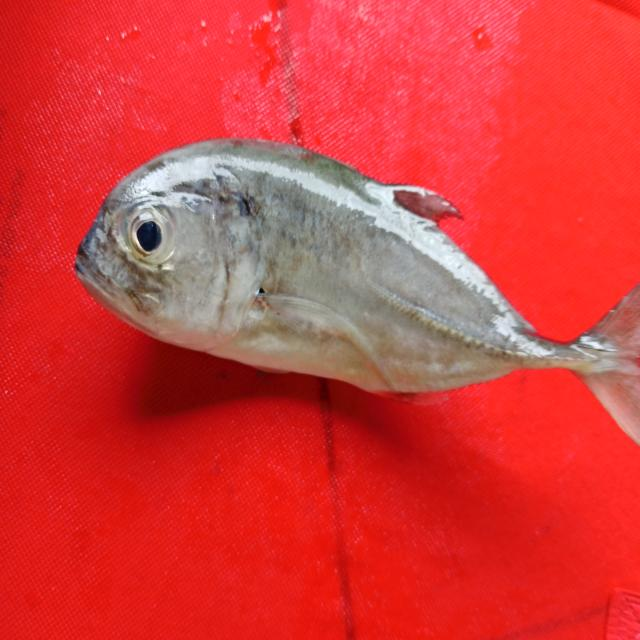ikan: (59, 117, 634, 449)
